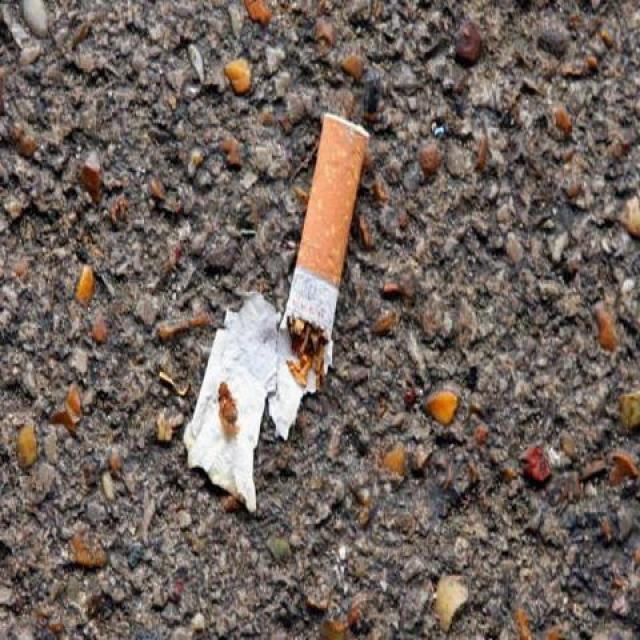non-organic waste: (267, 109, 374, 386)
